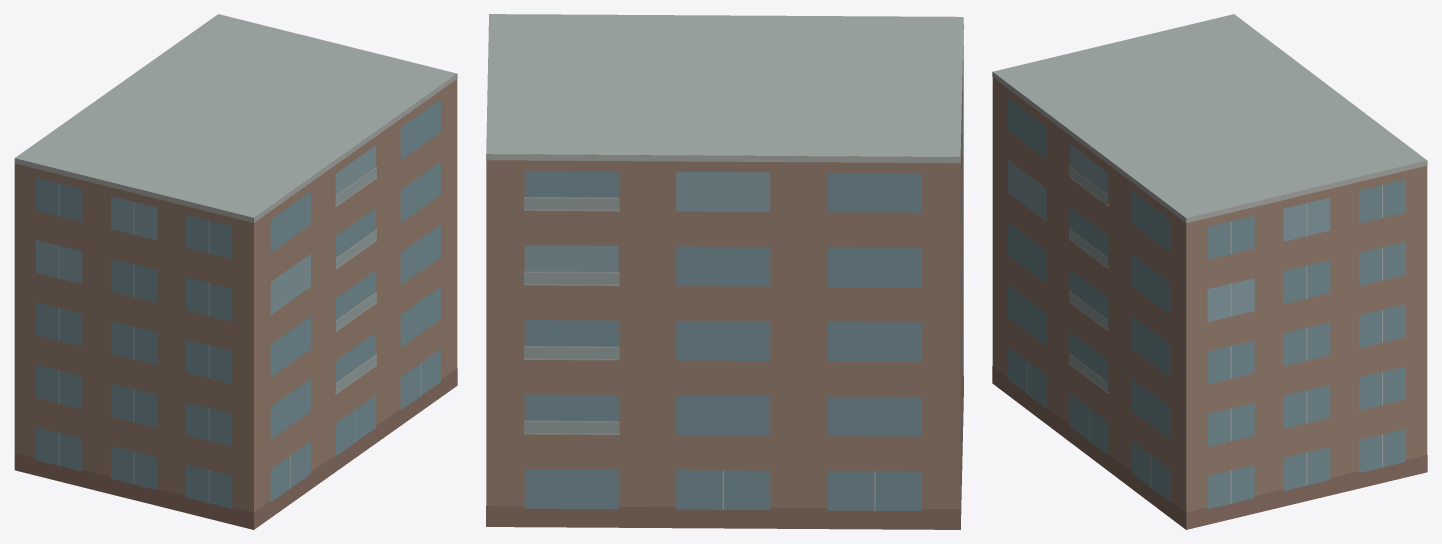
File: survey-upis-32704878.glb
3 renders of one model, left to right at view 1: azimuth 30°, elevation 25°; view 2: azimuth 150°, elevation 25°; view 3: azimuth 270°, elevation 25°, orthographic. The views are drawn at different scales.
Visible parts, largest first — view 1: survey-upis-32704878.tmp; view 2: survey-upis-32704878.tmp; view 3: survey-upis-32704878.tmp.
Part boxes in pixels (x1=…): survey-upis-32704878.tmp: x1=14, y1=14, x2=457, y2=529; survey-upis-32704878.tmp: x1=486, y1=14, x2=963, y2=529; survey-upis-32704878.tmp: x1=992, y1=14, x2=1427, y2=529.
Size of the model in its own units: 20.8 by 14.8 by 18.72.
